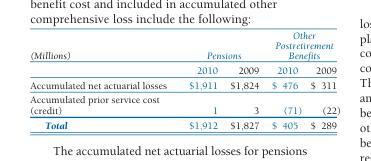table: (29, 29, 339, 130)
table column: (29, 29, 176, 130), (176, 29, 223, 130), (223, 29, 264, 130), (264, 29, 305, 130), (305, 29, 339, 130)
table column header: (29, 29, 339, 77)
table row: (29, 29, 339, 62), (29, 92, 339, 117), (29, 62, 339, 77), (29, 77, 339, 92), (29, 117, 339, 130)
table spanning cell: (29, 29, 176, 77), (176, 29, 264, 62), (264, 29, 339, 62)
